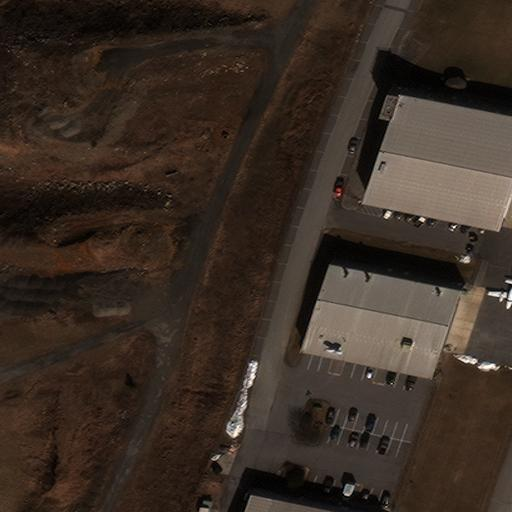Small Civil Transport: (488, 277, 512, 308)
